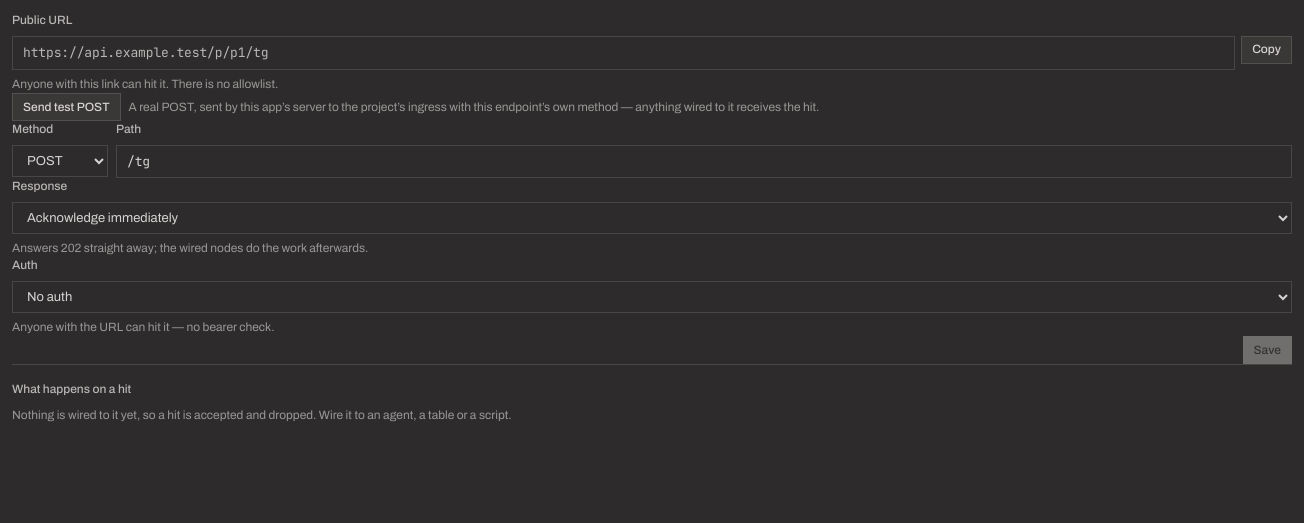
Scenario: testing the public URL › does not let a bare 404 read as a bad path
This screenshot has width=1304, height=523.
Click the button with test id "btn-endpoint-test". click: (66, 107)
box: [12, 93, 120, 121]
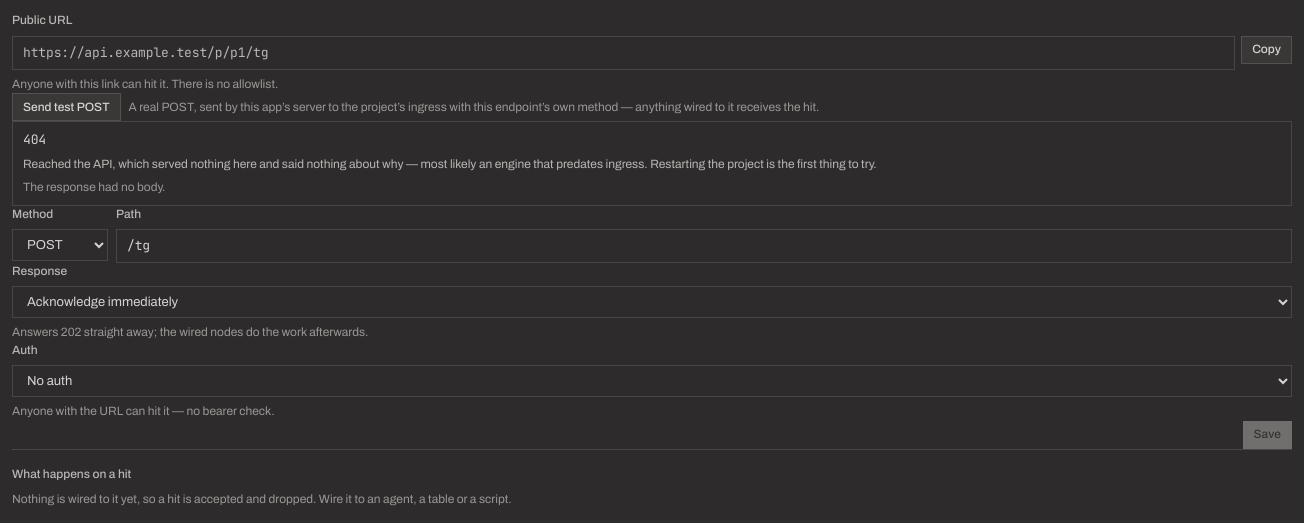
Expected: the text with test id "endpoint-probe-verdict" is shown, [23, 156, 877, 170]
